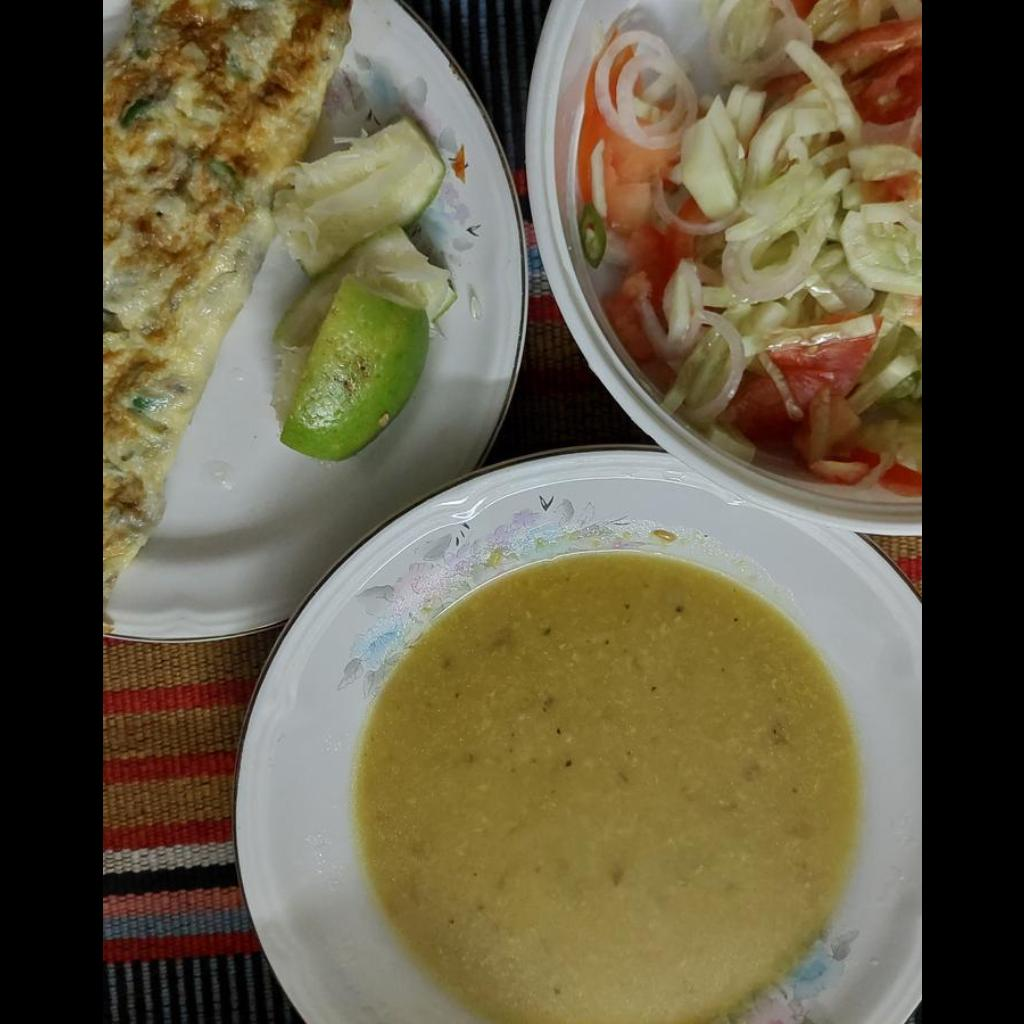daal: (355, 553, 868, 1023)
egg-poached: (102, 1, 351, 608)
lemon: (269, 117, 460, 462)
salad: (580, 4, 920, 491)
